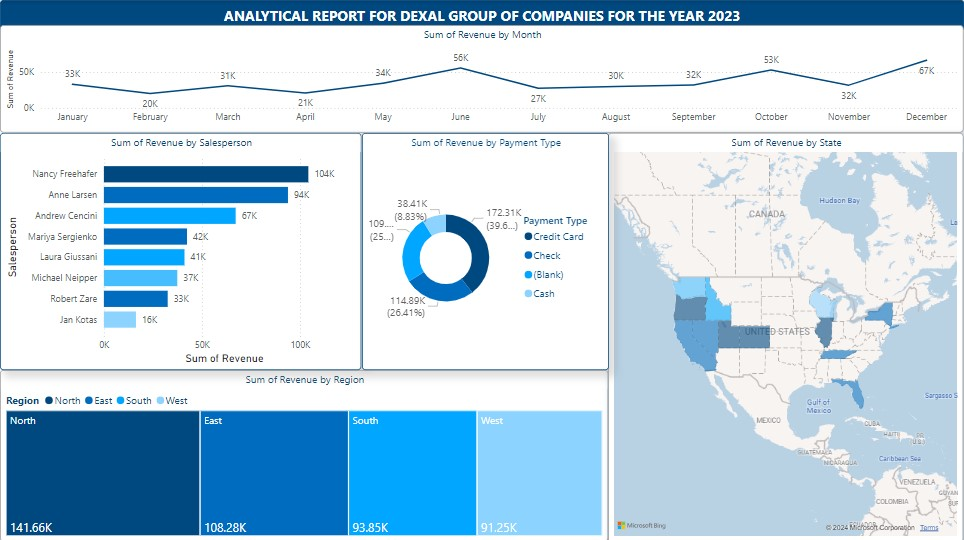

The dashboard page shown, as its layout file describes it:
{"tool":"powerbi","page":{"name":"Page 1","canvas":[1280,720],"ordinal":0},"visuals":[{"type":"textbox","box":[0,0,1280.7,41],"z":0},{"type":"treemap","fields":{"Group":["Data (2).Region"],"Values":["Data (2).Revenue"]},"box":[0,491.4,807.9,228.5],"z":1000},{"type":"lineChart","fields":{"Category":["Data (2).Order Date.Variation.Date Hierarchy.Month"],"Y":["Data (2).Revenue"]},"box":[0,33,1280,143.1],"z":2000},{"type":"filledMap","fields":{"Category":["Data (2).State"]},"box":[807.9,176.2,472.1,543.7],"z":3000},{"type":"barChart","fields":{"Category":["Data (2).Salesperson"],"Y":["Data (2).Revenue"]},"box":[0,176.2,480.3,315.2],"z":4000},{"type":"donutChart","fields":{"Category":["Data (2).Payment Type"],"Y":["Data (2).Revenue"]},"box":[480.3,176.2,327.6,315.2],"z":5000}]}

Visuals, with their boxes in screenshot pixels (x1, y1, x2, y2), scaled from the page's 1280x720 canvas onto the 964x540 screenshot:
textbox: detection(0, 0, 963, 31)
treemap - Data (2).Region x Data (2).Revenue: detection(0, 369, 608, 539)
lineChart - Data (2).Order Date.Variation.Date Hierarchy.Month x Data (2).Revenue: detection(0, 25, 963, 132)
filledMap - Data (2).State: detection(608, 132, 963, 539)
barChart - Data (2).Salesperson x Data (2).Revenue: detection(0, 132, 362, 369)
donutChart - Data (2).Payment Type x Data (2).Revenue: detection(362, 132, 608, 369)
